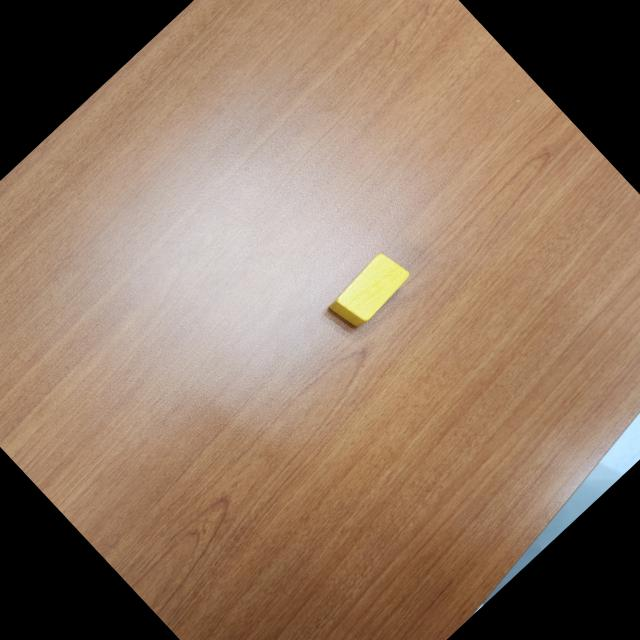yellow: (323, 246, 414, 335)
